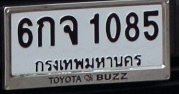num6: (16, 17, 34, 49)
txt01: (35, 15, 57, 48)
txt06: (59, 14, 80, 46)
